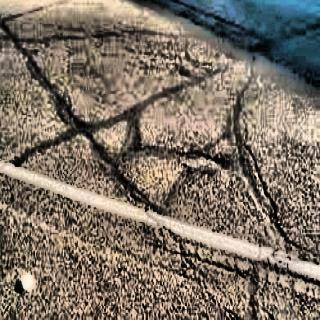alligator-crack: (5, 45, 314, 284)
